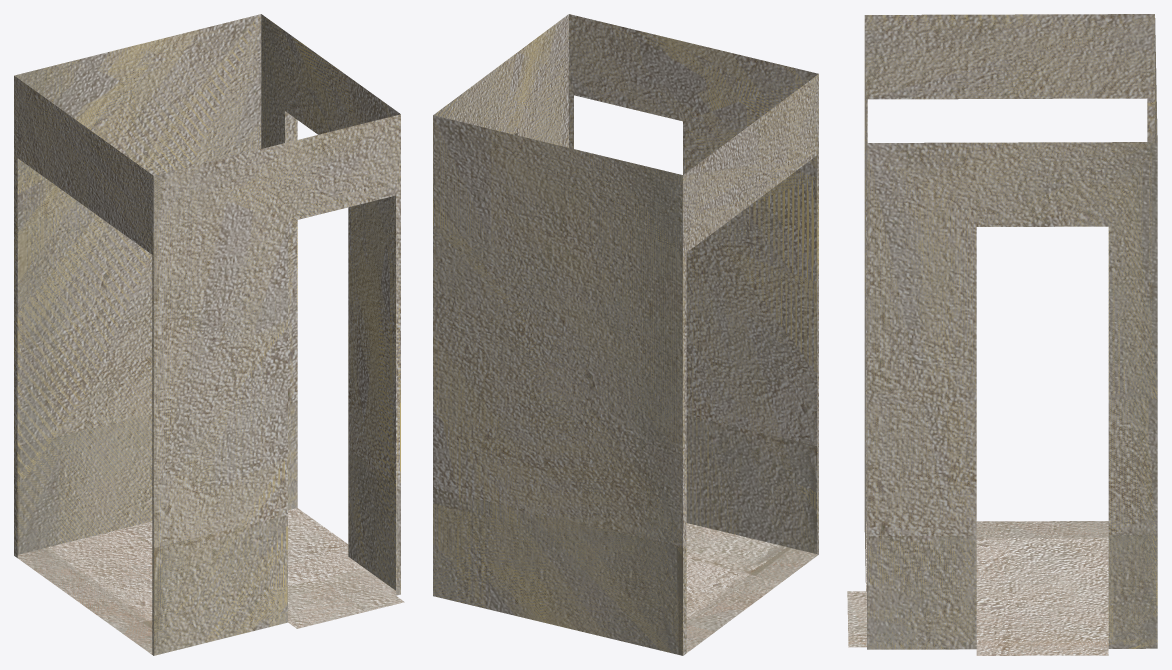
The model's file is COM011.obj.
3 renders of one model, left to right at view 1: azimuth 30°, elevation 25°; view 2: azimuth 150°, elevation 25°; view 3: azimuth 270°, elevation 25°, orthographic. The views are drawn at different scales.
Parts seen in each view (by area): view 1: Mesh1 COM011 Model; view 2: Mesh1 COM011 Model; view 3: Mesh1 COM011 Model.
Part boxes in pixels (bbox=[...]): Mesh1 COM011 Model: bbox=[14, 14, 404, 655]; Mesh1 COM011 Model: bbox=[433, 14, 818, 655]; Mesh1 COM011 Model: bbox=[847, 14, 1157, 655].
Bounding box in the file's own units: 2.06 × 3.6 × 2.
Materials: 3 (2 with a texture image).
